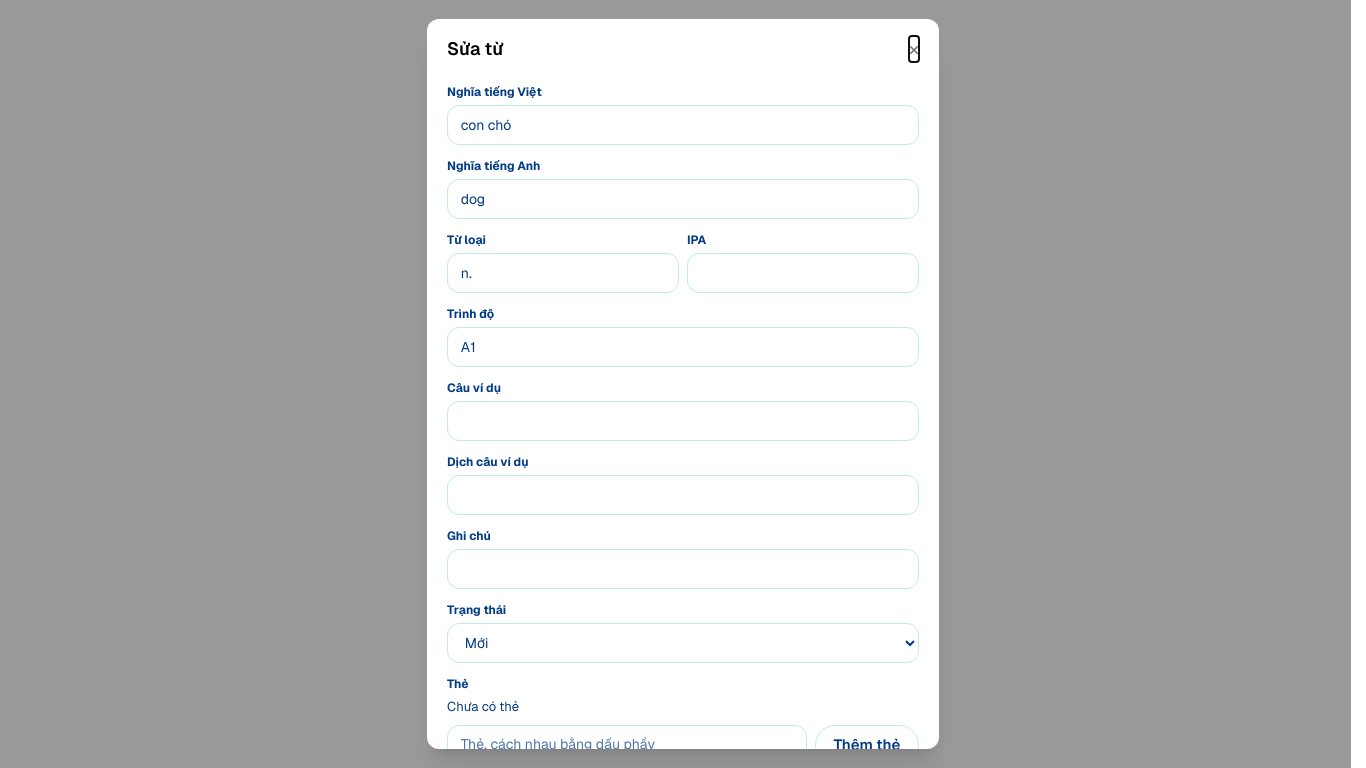
Test: setting "Đã biết" › says the word leaves review, and how to bring it back
Expected: the text "Không đưa vào ôn nữa. Đổi trạng thái để ôn lại." is not shown
Select "Đã biết" in the dropdown. click: (683, 643)
box: x1=447 y1=623 x2=919 y2=663
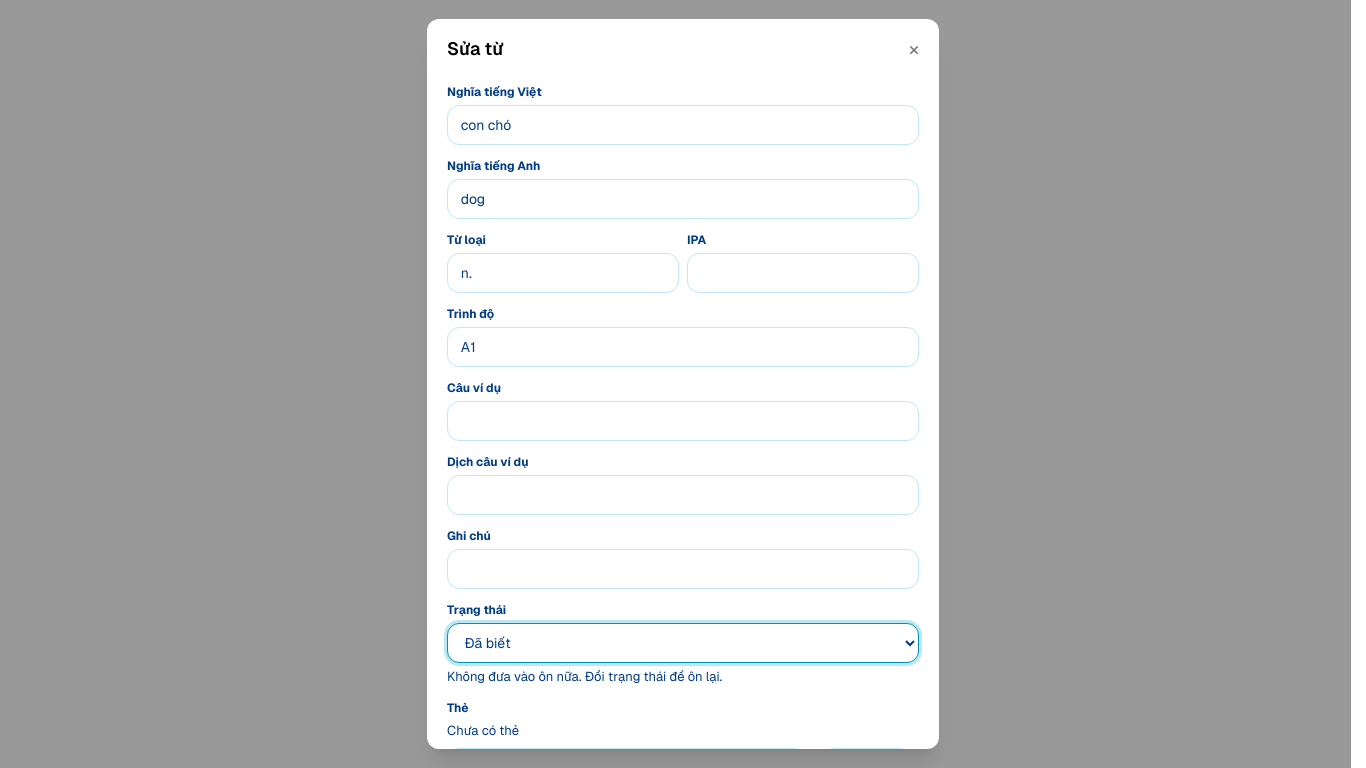
Result: the text "Không đưa vào ôn nữa. Đổi trạng thái để ôn lại." is shown at x1=447 y1=668 x2=722 y2=685
Select "Đang học" in the dropdown. click: (683, 643)
box: x1=447 y1=623 x2=919 y2=663
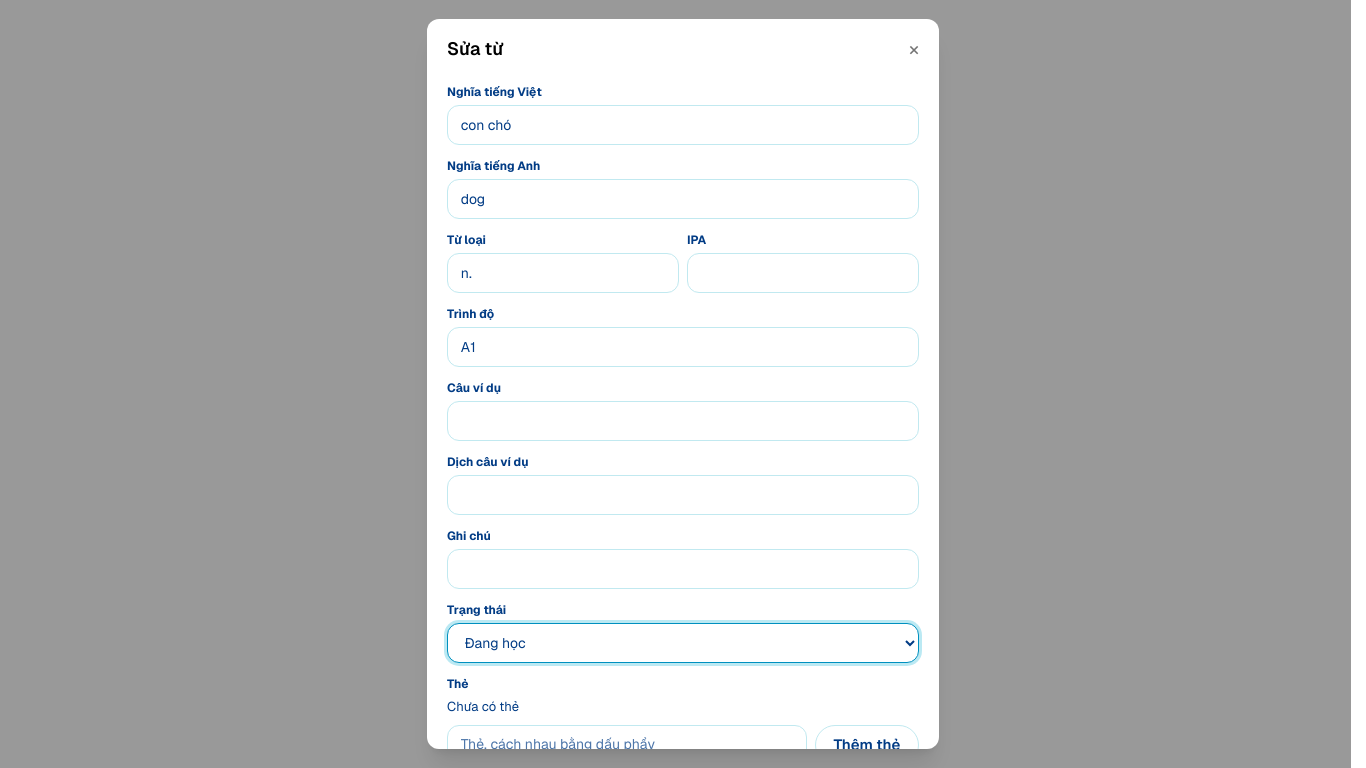
Result: the text "Không đưa vào ôn nữa. Đổi trạng thái để ôn lại." is gone
